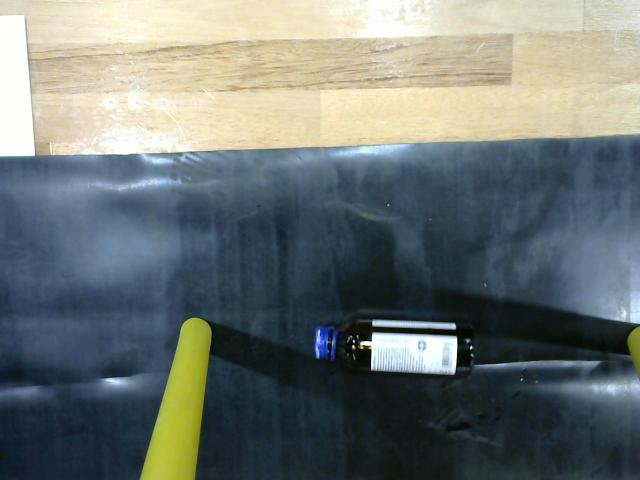glass: (304, 302, 481, 384)
